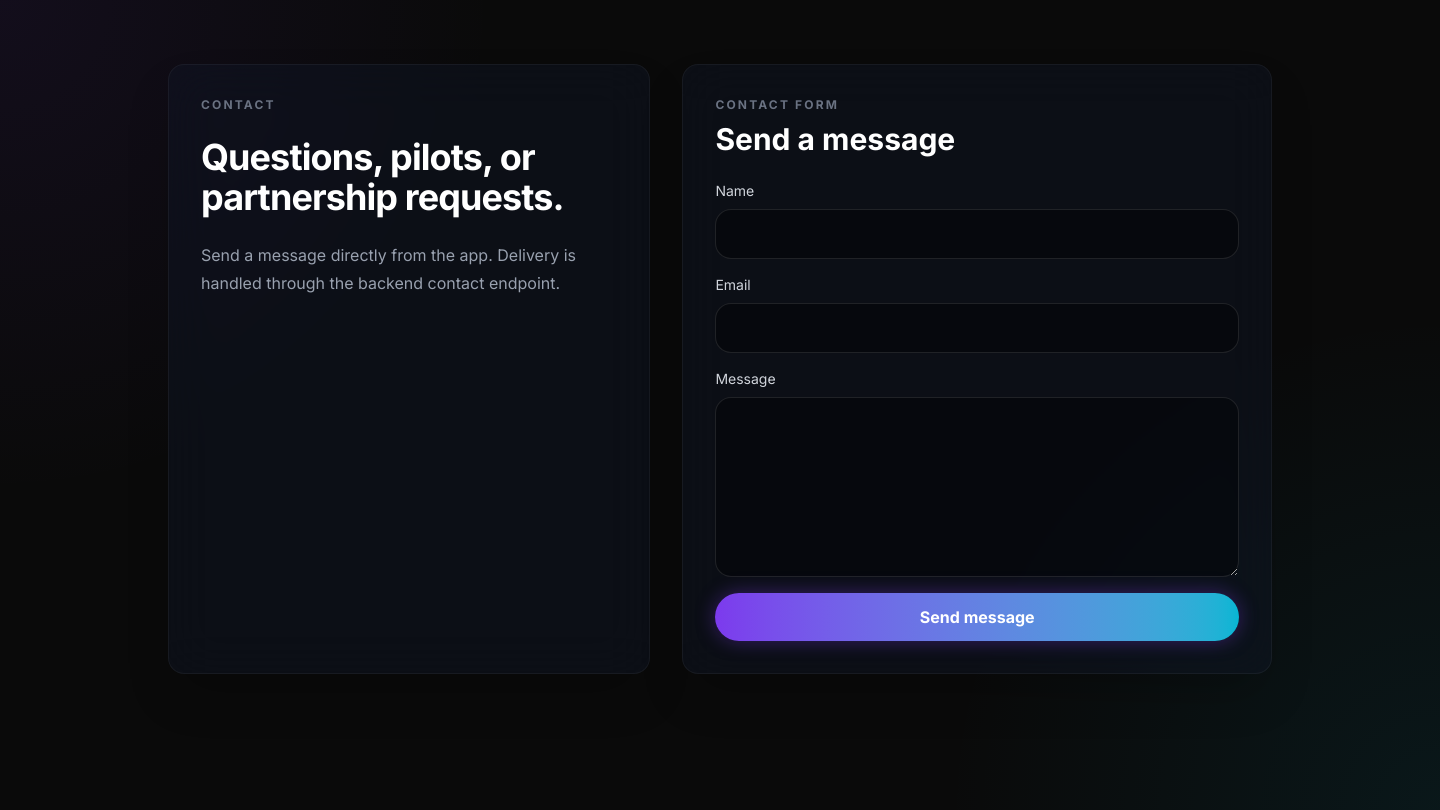
Test: ContactPage › submits the contact form through the backend API
In the field labelled "Name": point(977, 234) [715,209,1239,259], type "Ayush"
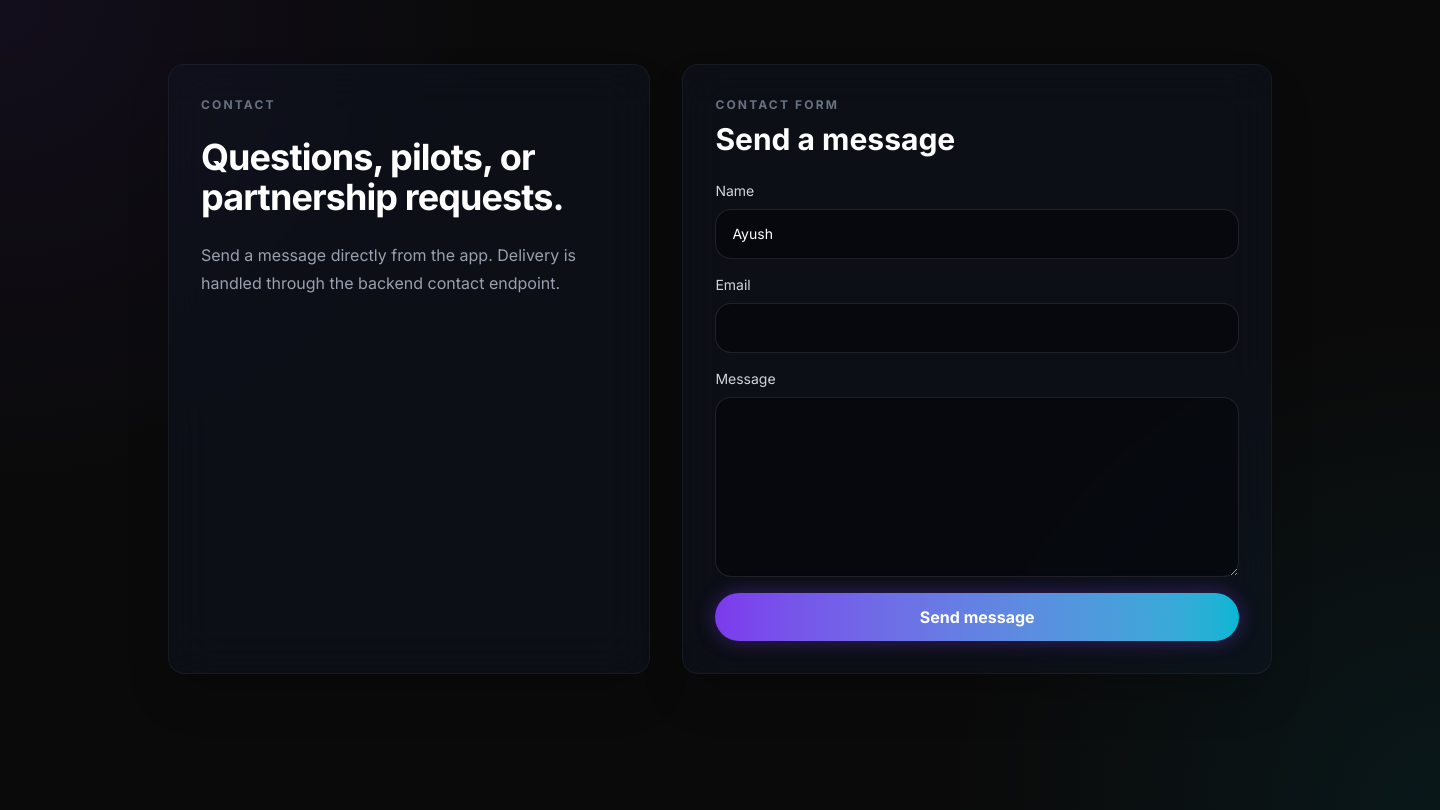
In the field labelled "Email": point(977, 328) [715,303,1239,353], type "ayush@example.com"
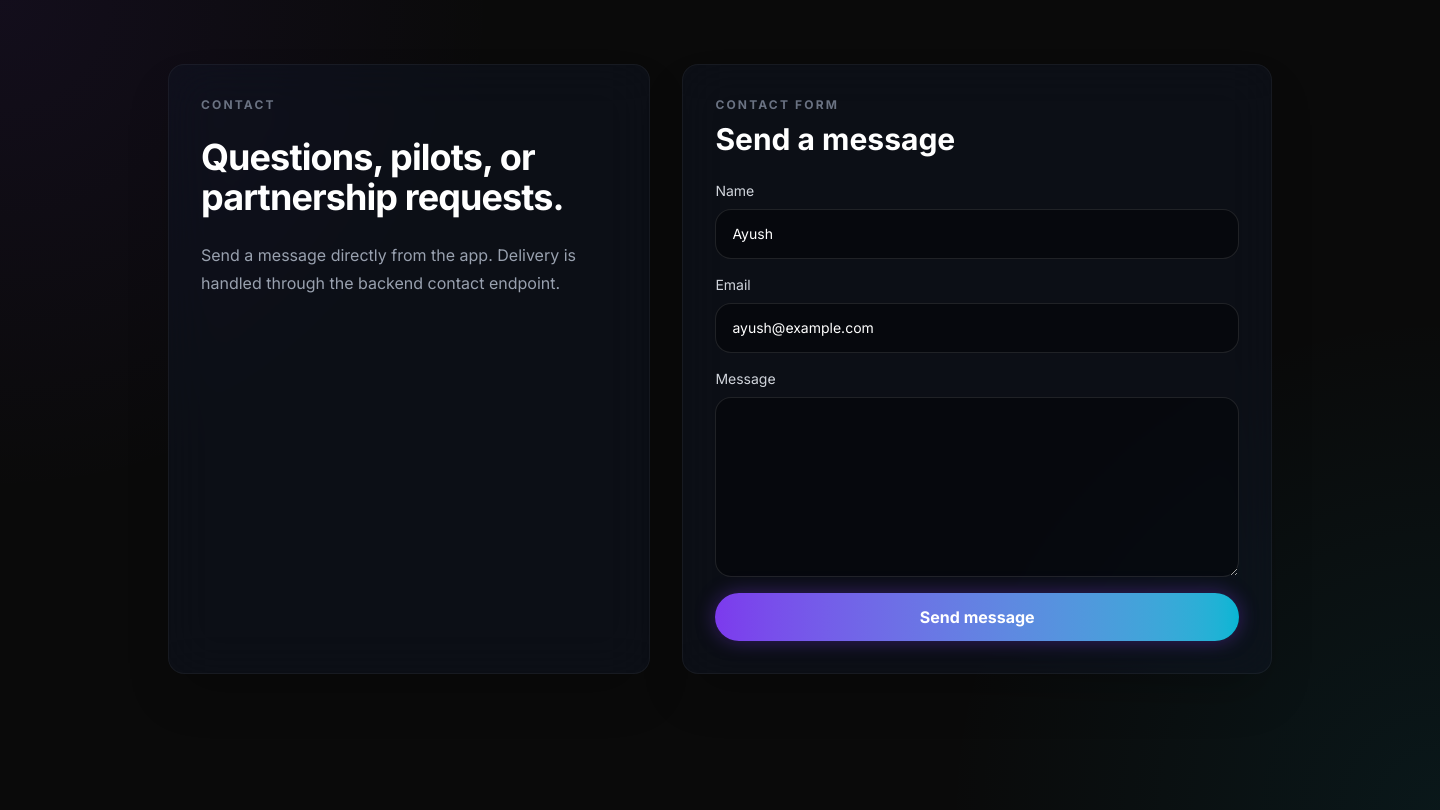
In the text box labelled "Message": point(977, 487) [715,397,1239,577], type "Need a pilot demo."
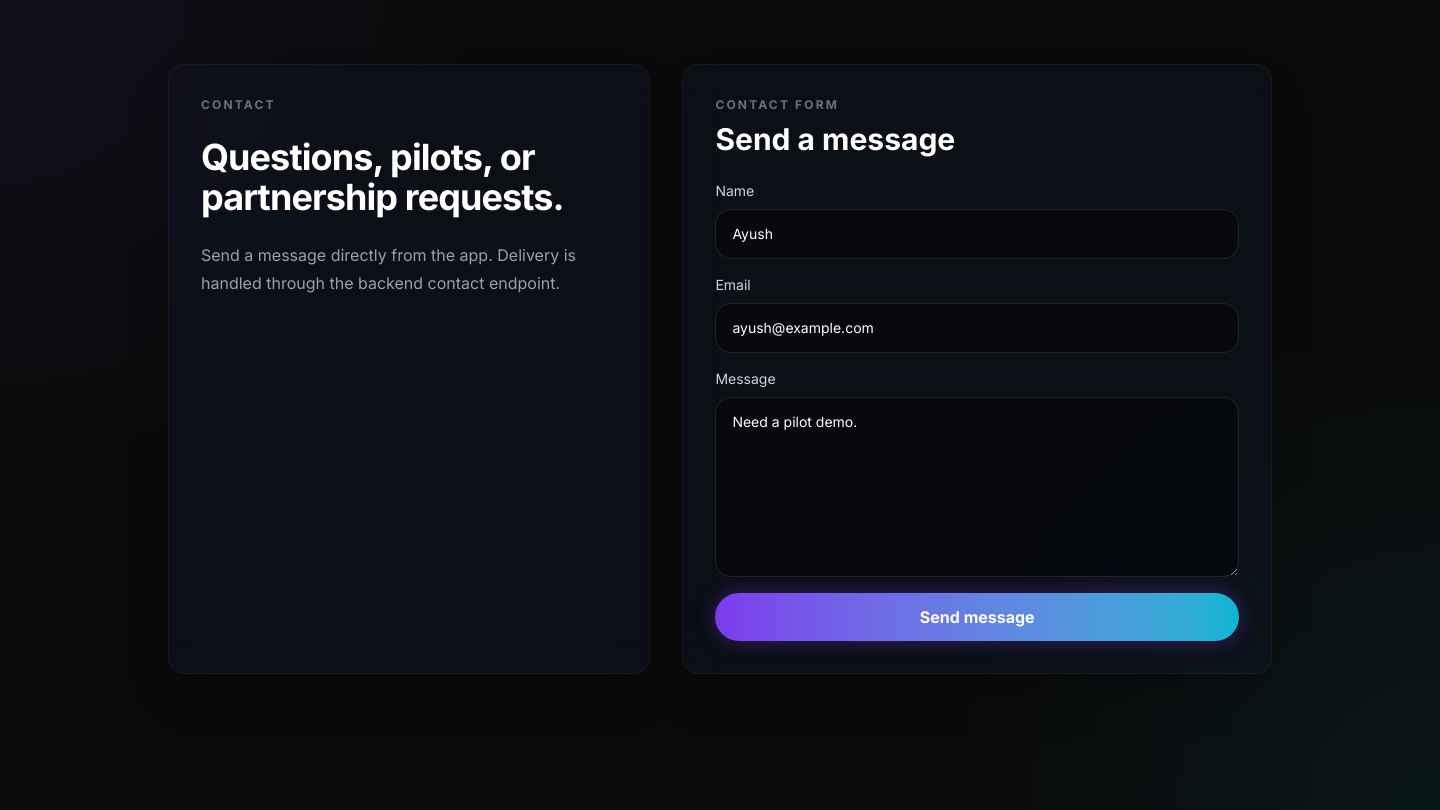
Click the button "Send message": point(977, 617) [715,593,1239,641]
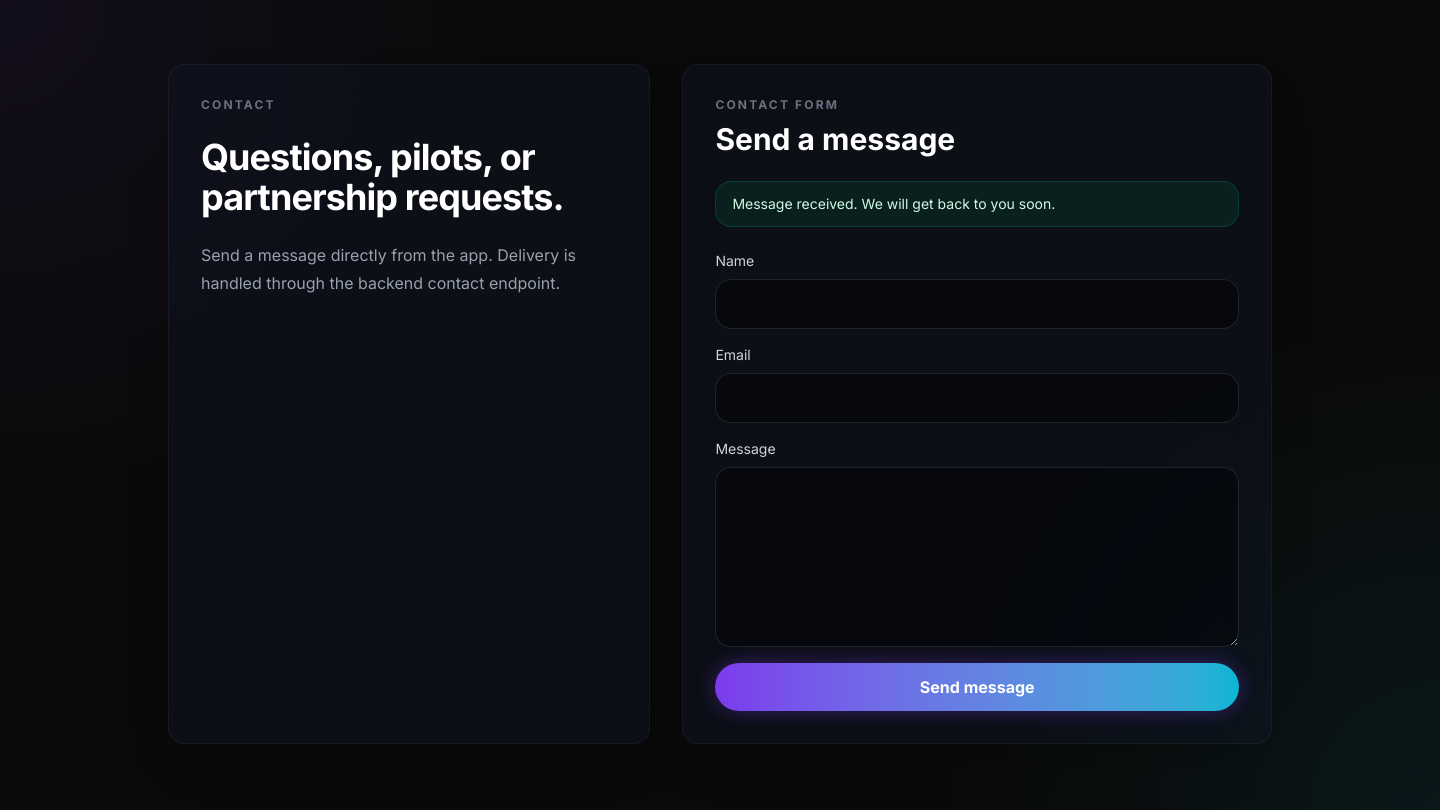
Expected: the text "Message received. We will get back to you soon." is shown, [715,181,1239,227]
